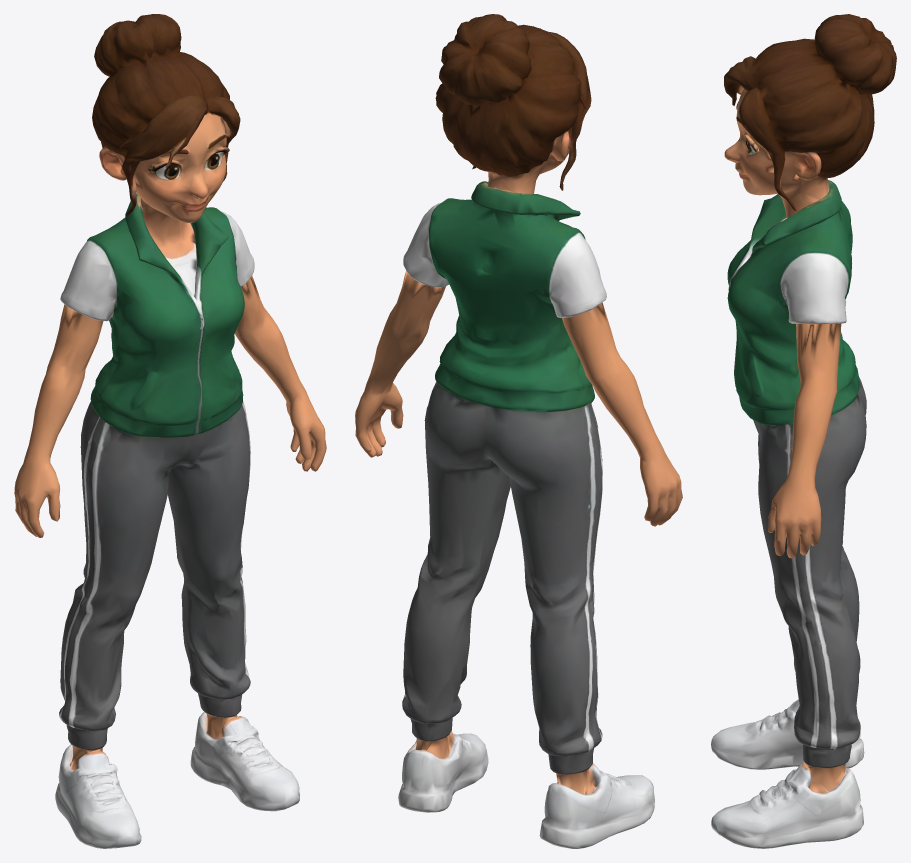
The model's file is coach.glb.
The picture shows the model from 3 angles, left to right: view 1: azimuth 30°, elevation 25°; view 2: azimuth 150°, elevation 25°; view 3: azimuth 270°, elevation 25°; orthographic projection. The views are drawn at different scales.
Parts seen in each view (by area): view 1: tripo_node_2066dfce-fb05-409a-8369-5423ced2cb78; view 2: tripo_node_2066dfce-fb05-409a-8369-5423ced2cb78; view 3: tripo_node_2066dfce-fb05-409a-8369-5423ced2cb78.
Part boxes in pixels (x1=…): tripo_node_2066dfce-fb05-409a-8369-5423ced2cb78: x1=14, y1=14, x2=326, y2=848; tripo_node_2066dfce-fb05-409a-8369-5423ced2cb78: x1=355, y1=14, x2=682, y2=848; tripo_node_2066dfce-fb05-409a-8369-5423ced2cb78: x1=711, y1=14, x2=896, y2=848.
Bounding box in the file's own units: 0.4091 × 1 × 0.2157.
Materials: 1 (1 with a texture image).
